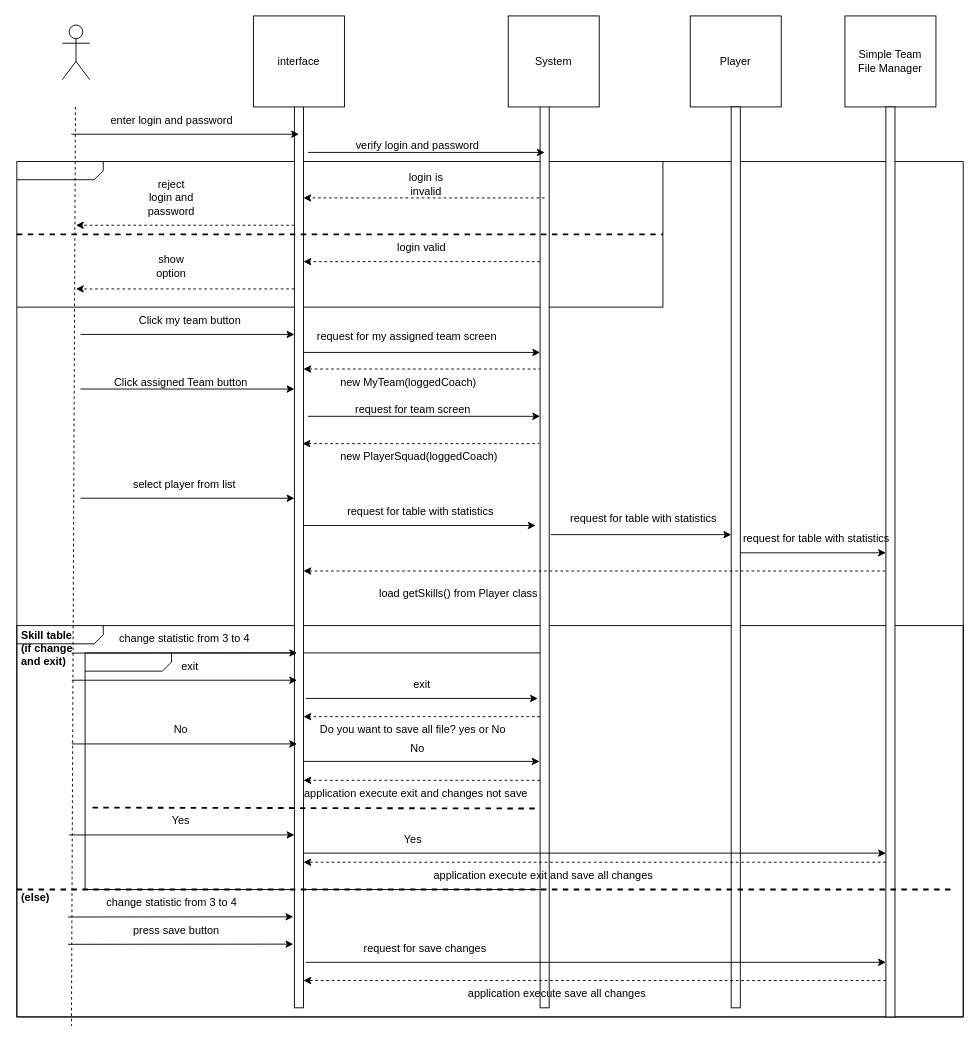
This 980x1043 diagram has some shape labels left out. The shapes that lost their labels are listed below. From the top down, each one's box as (x1, y1, x2, y2) in pixels, then its label:
(61, 24, 90, 80): Coach
(16, 161, 663, 307): login (if login is invalid) (else)
(84, 652, 545, 890): Exit (if NO) (else)
